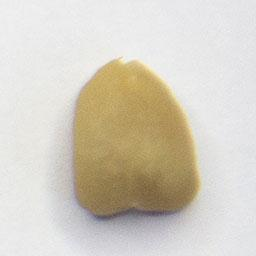defect: (69, 53, 203, 220)
